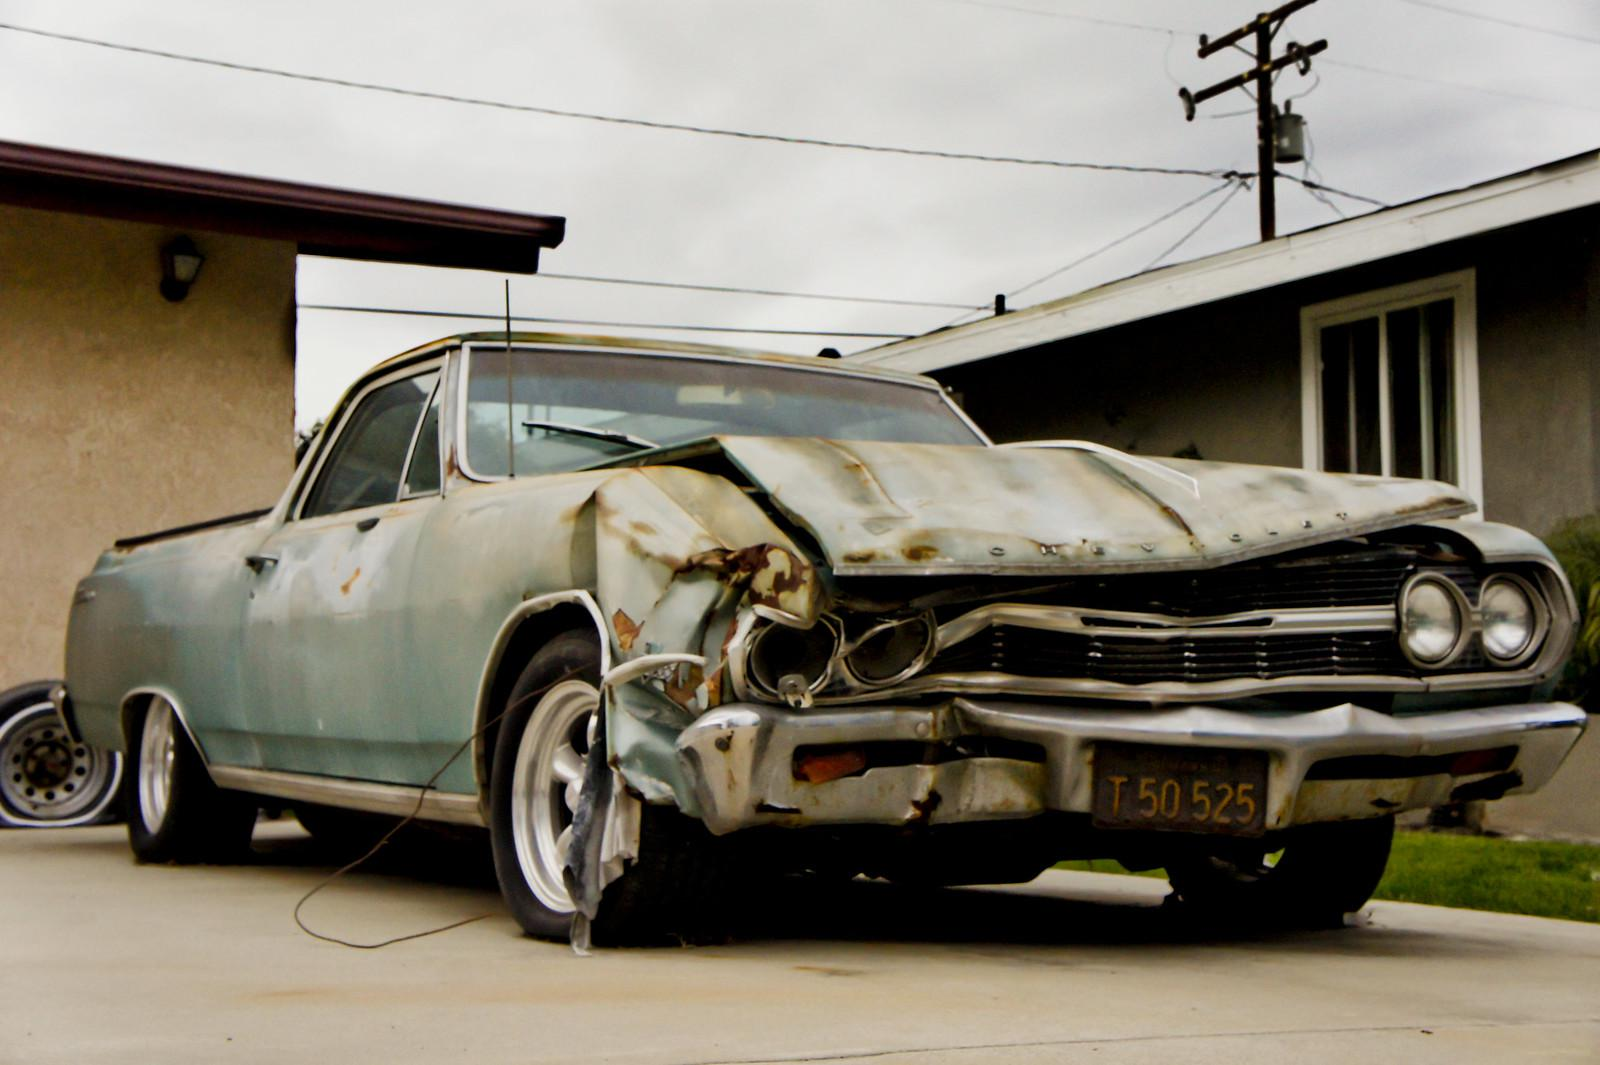Headlight-Damage: (661, 565, 950, 716)
bonnet-dent: (607, 395, 1524, 575)
doorouter-dent: (206, 505, 470, 760)
fender-dent: (418, 483, 742, 698)
front-bumper-dent: (773, 528, 1577, 830)
pillar-dent: (423, 330, 502, 508)
